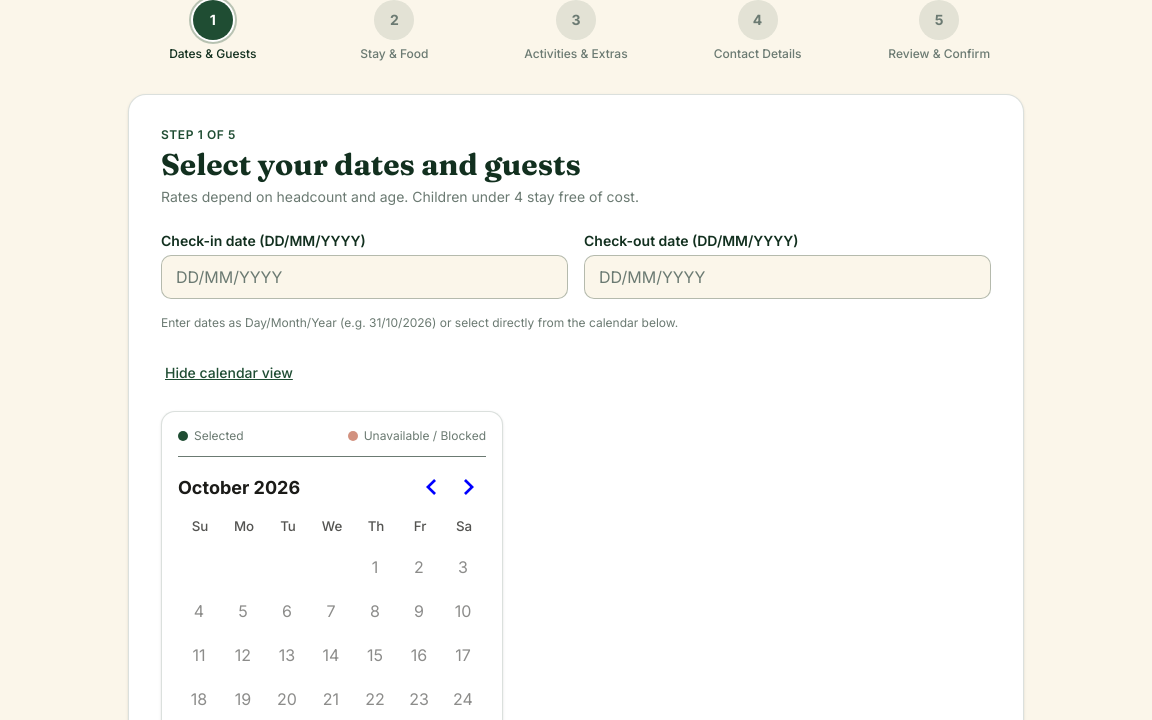
Test case: BookingFlow accessible stepper & jest-axe › Step 4 (Contact details) passes axe accessibility checks
Type "20/11/2026" into the field labelled "Check-in date (DD/MM/YYYY)".
click(364, 277); type("20/11/2026")  # box [161, 255, 568, 299]
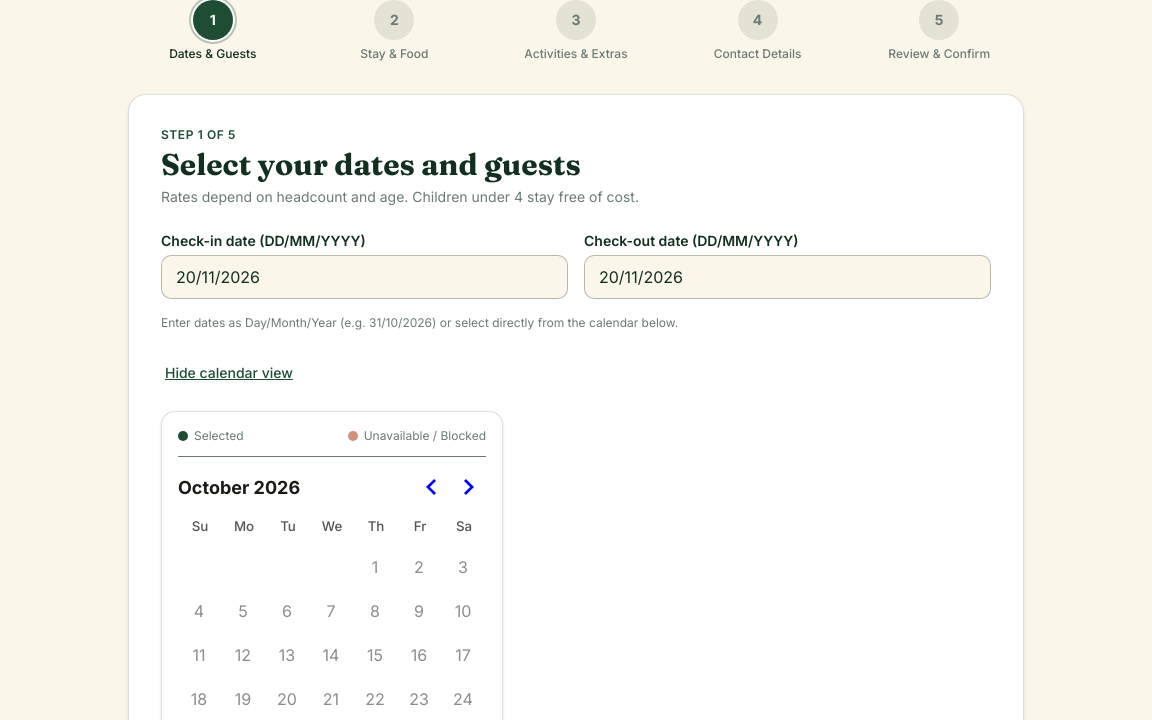
Replace the text in the field labelled "Check-out date (DD/MM/YYYY)" with "21/11/2026" at (788, 277), box [584, 255, 991, 299]
(page scrolled)
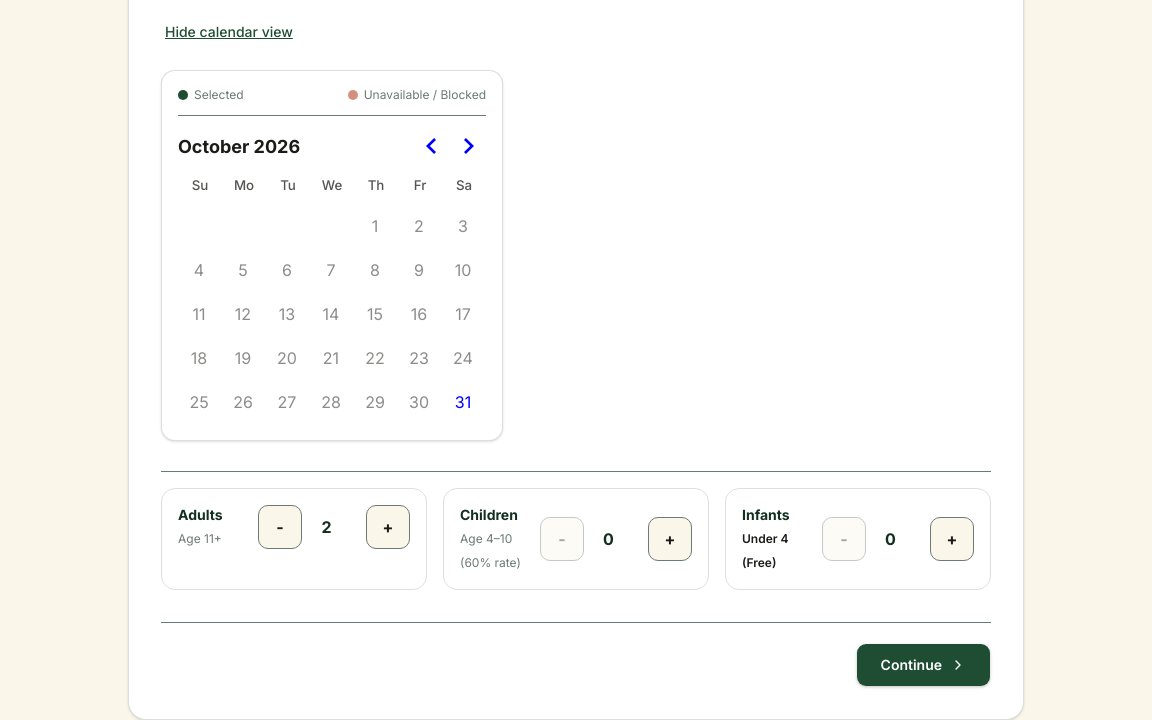
Click the button "Continue".
click(923, 665)  # box [856, 643, 991, 687]
(page scrolled)
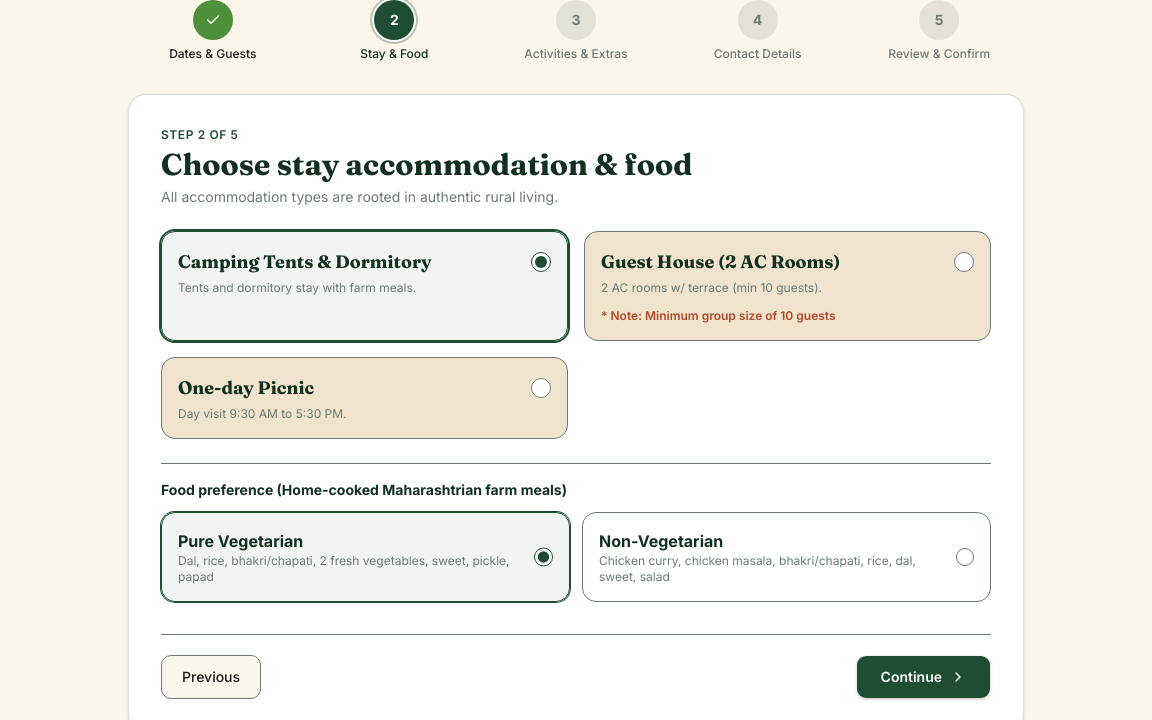
Click the button "Continue".
click(923, 677)  # box [856, 655, 991, 699]
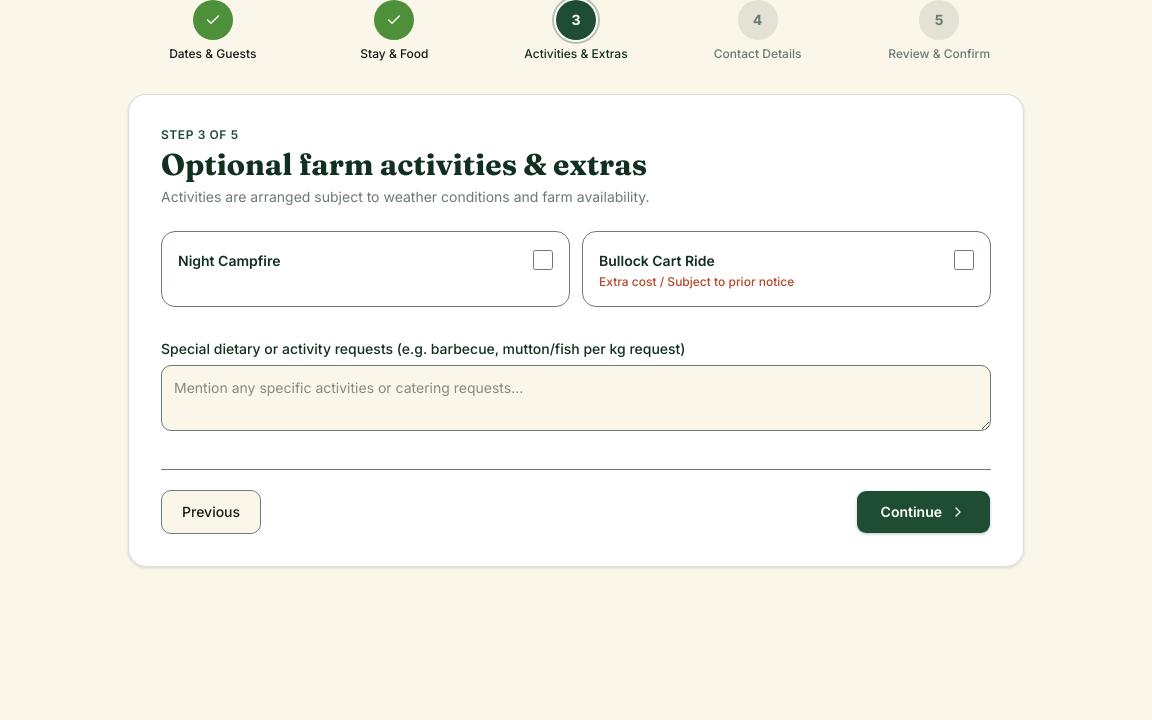
Click the button "Continue".
click(923, 512)  # box [856, 490, 991, 534]
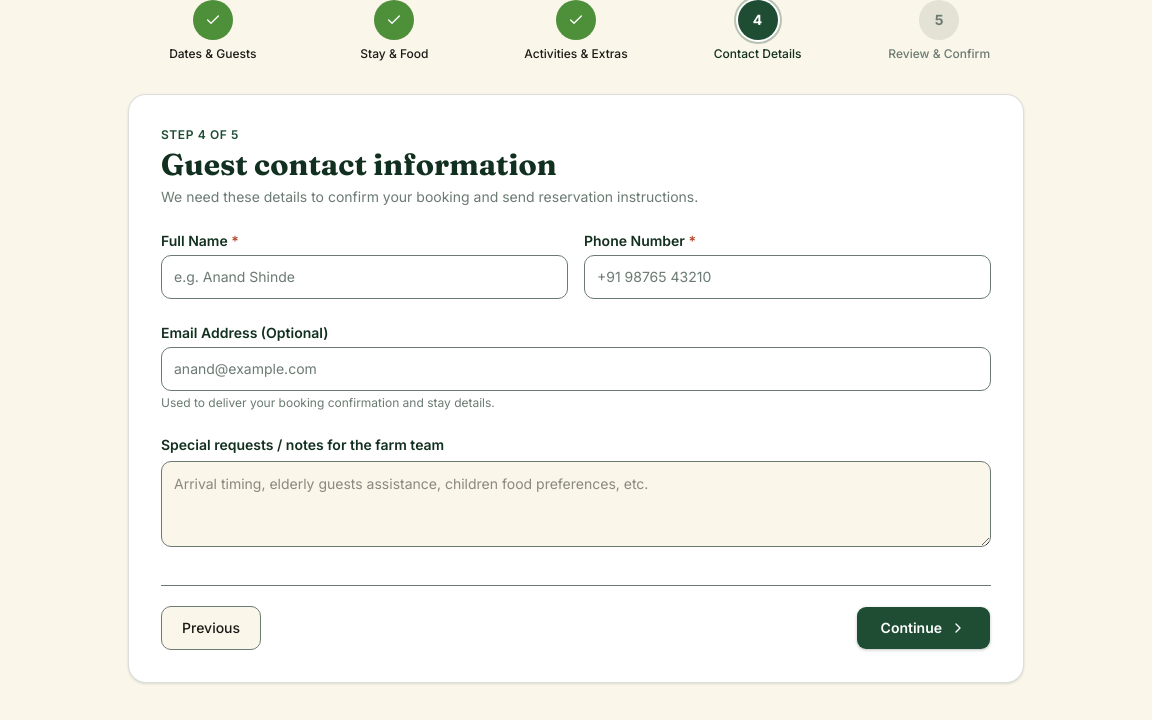
Expected: the list item "4 Contact Details" is shown, [714, 0, 801, 61]
Expected: the heading "Guest contact information" is shown, [161, 146, 557, 183]
